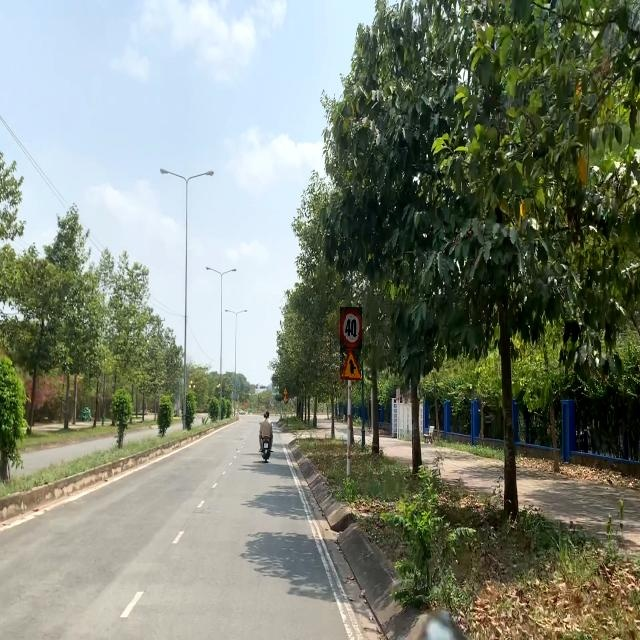bien_nguy_hiem: (340, 307, 362, 349), (340, 348, 361, 381)
